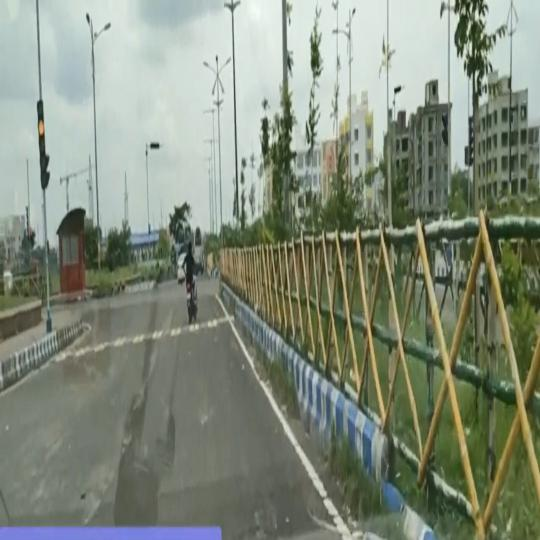Speed Bump: (54, 314, 235, 362)
